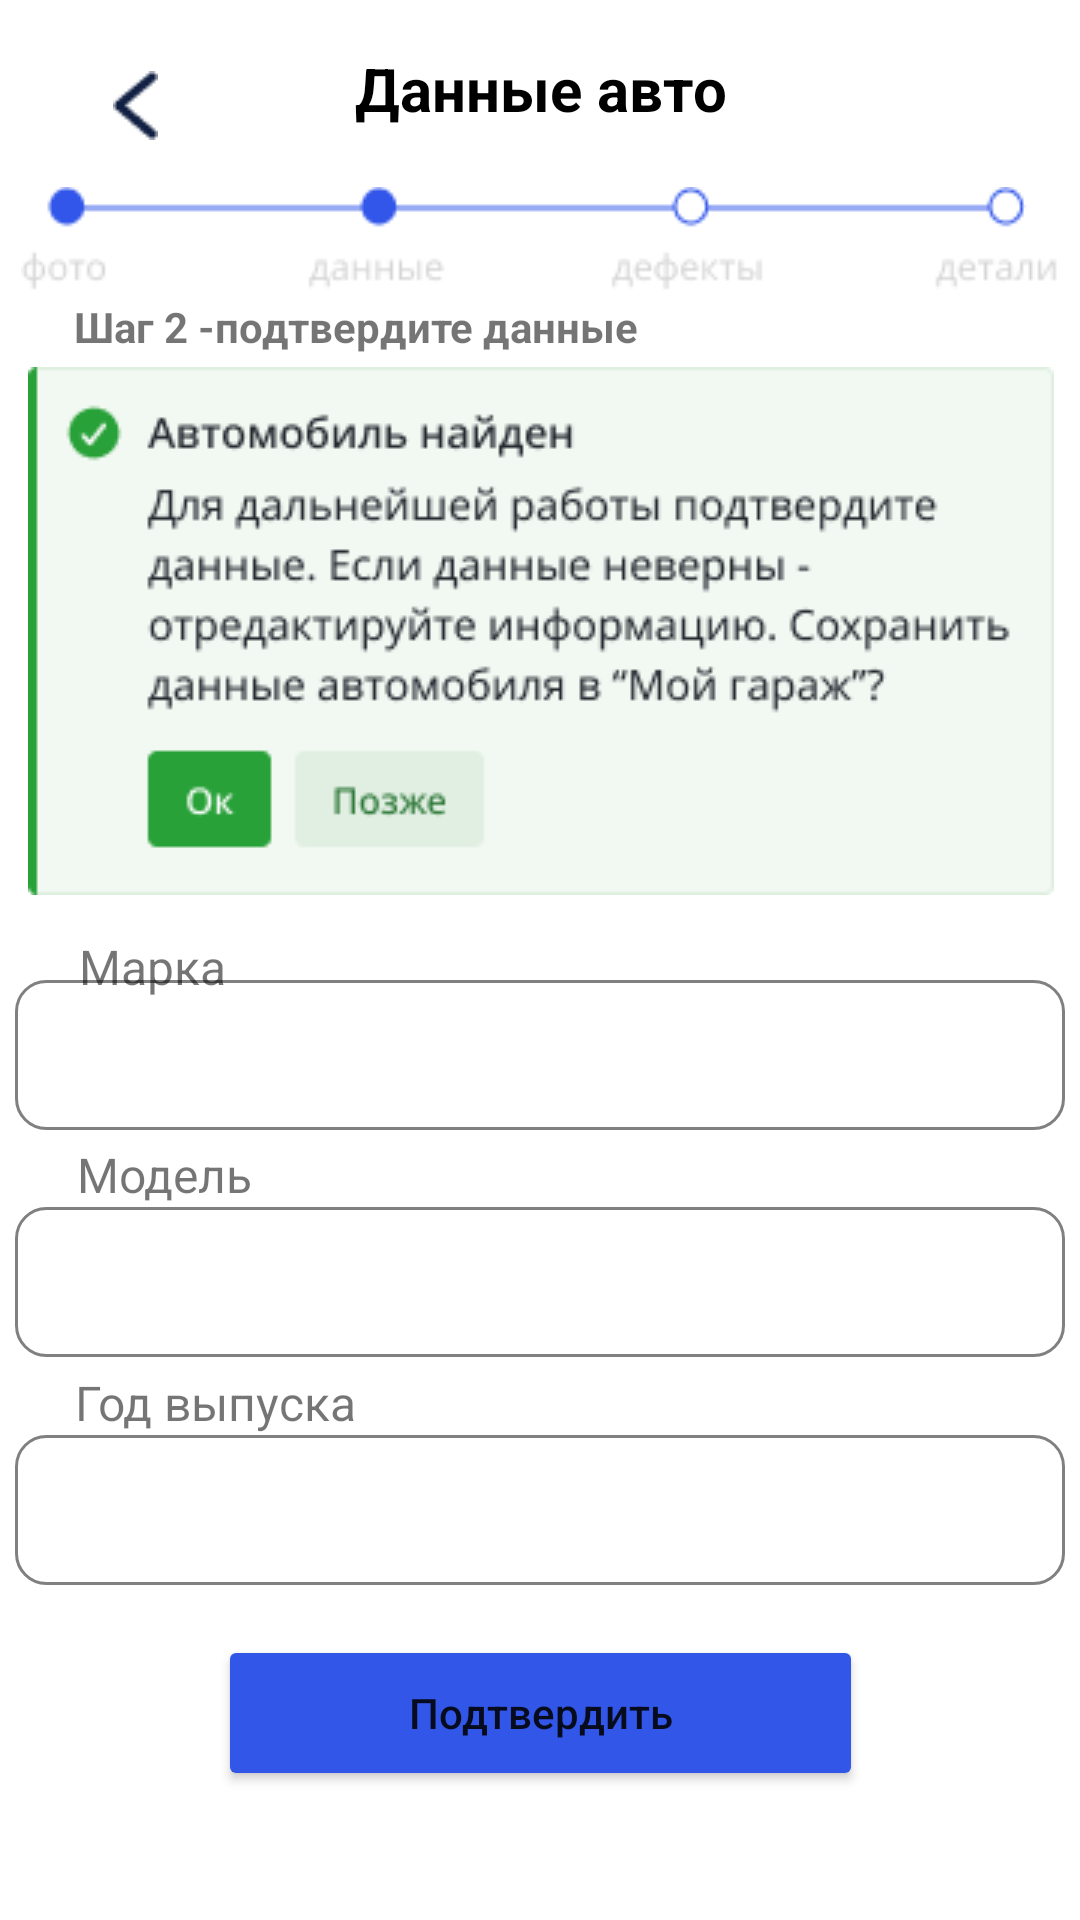

Named icons in this screenshot (1080 x 1920) and their bounding boxes, (x1, y1, x2, y2):
backbutton: (113, 71, 158, 140)
